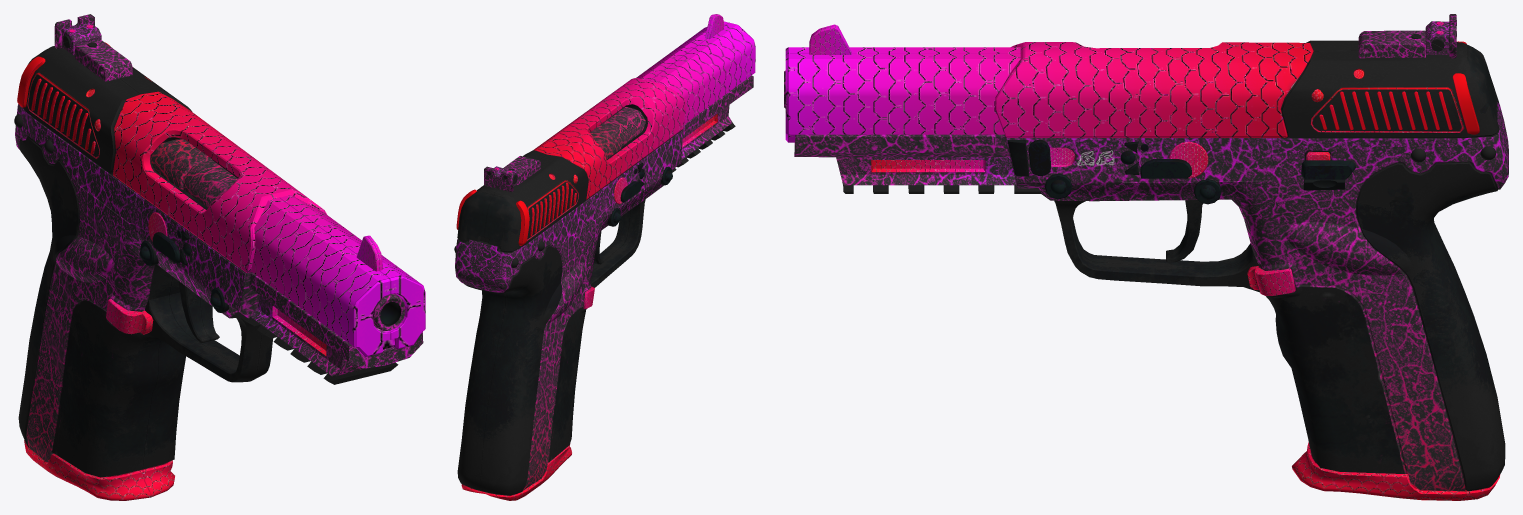
Rendered from fiveseven.obj.
3 renders of one model, left to right at view 1: azimuth 30°, elevation 25°; view 2: azimuth 150°, elevation 25°; view 3: azimuth 270°, elevation 25°, orthographic. The views are drawn at different scales.
Parts seen in each view (by area): view 1: Object_2; view 2: Object_2; view 3: Object_2.
Part boxes in pixels (x1=…): Object_2: x1=14, y1=14, x2=425, y2=500; Object_2: x1=454, y1=14, x2=755, y2=500; Object_2: x1=784, y1=14, x2=1508, y2=500.
Size of the model in its own units: 0.2529 by 1.03 by 1.48.
1 material, 1 textured.
